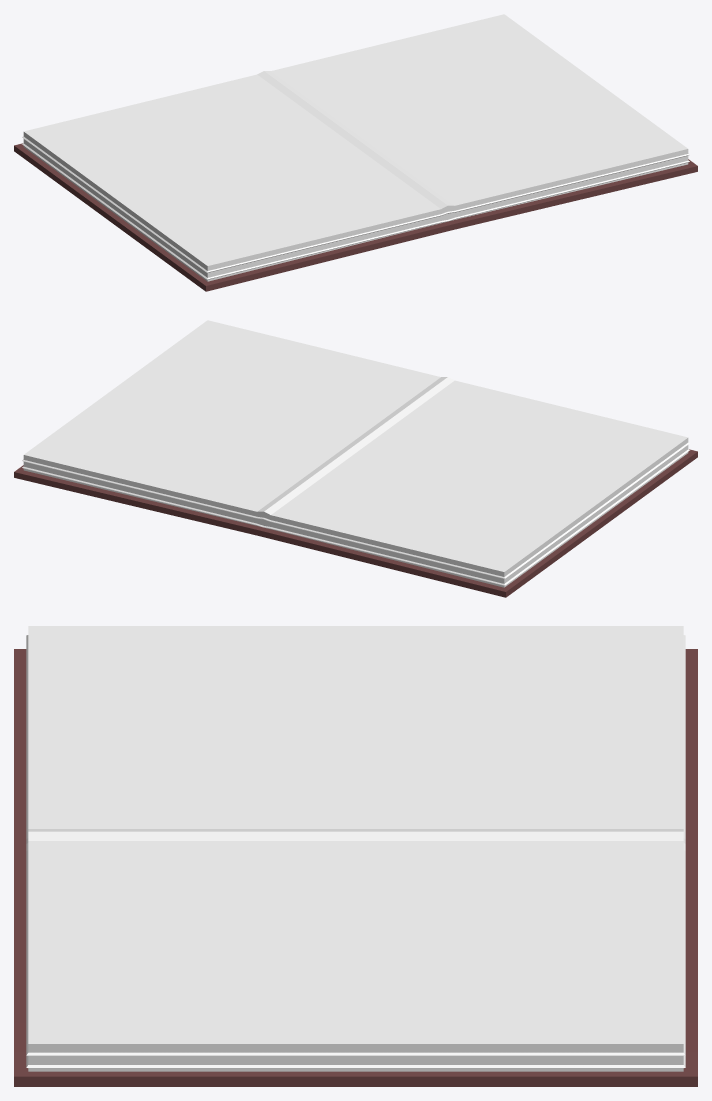
The model's file is Libro_V1.glb.
3 renders of one model, top to bottom at view 1: azimuth 30°, elevation 25°; view 2: azimuth 150°, elevation 25°; view 3: azimuth 270°, elevation 25°, orthographic. The views are drawn at different scales.
Visible parts, largest first — view 1: pCube4; view 2: pCube4; view 3: pCube4.
Part boxes in pixels (box(x1,y1,x2,y2)): pCube4: box(14, 14, 697, 291); pCube4: box(14, 320, 697, 597); pCube4: box(14, 626, 697, 1086).
Size of the model in its own units: 0.1034 by 0.00466 by 0.0699.
